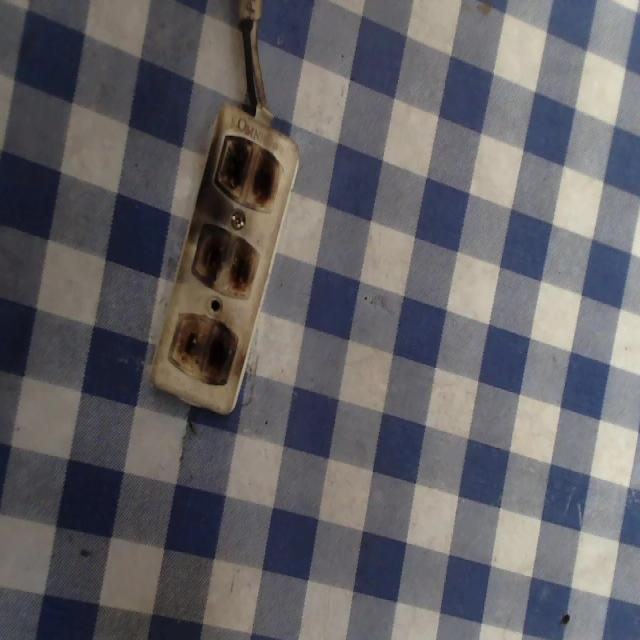-: (205, 114, 294, 218), (181, 214, 271, 298), (169, 303, 240, 380)
